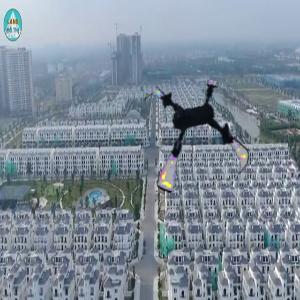drone: (135, 79, 255, 199)
